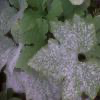Squash Powdery mildew leaf: (25, 13, 99, 97), (15, 68, 63, 99), (0, 2, 30, 36), (0, 33, 23, 72)
